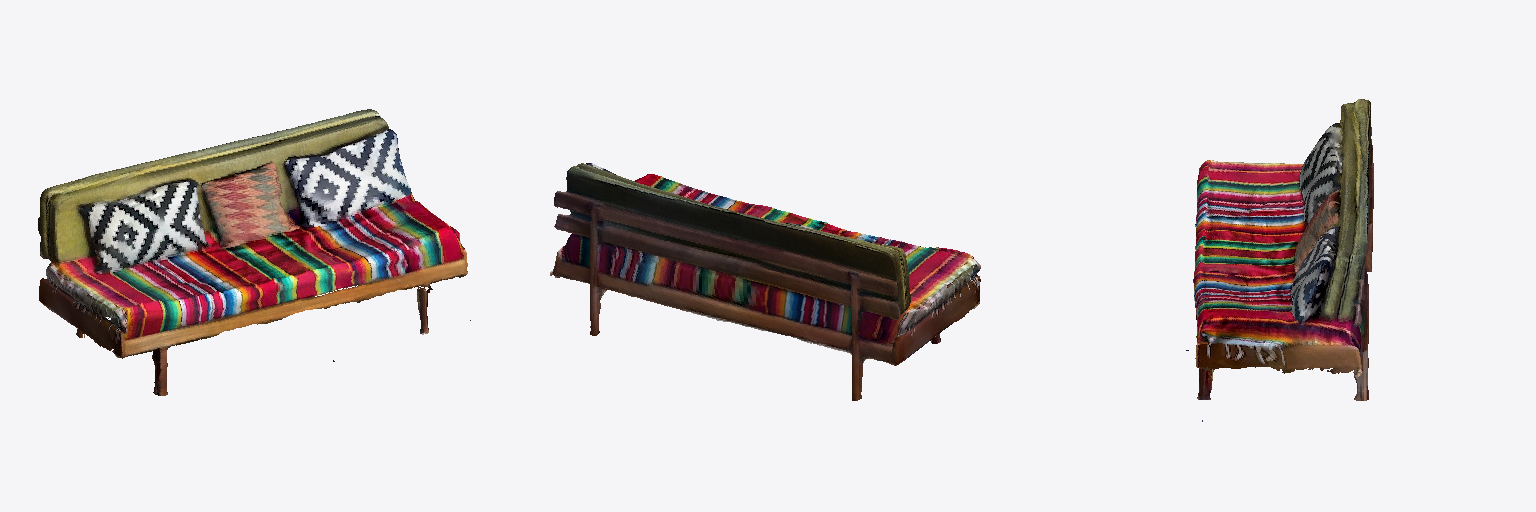
3 renders of one model, left to right at view 1: azimuth 30°, elevation 25°; view 2: azimuth 150°, elevation 25°; view 3: azimuth 270°, elevation 25°, orthographic.
Visible parts, largest first — view 1: mesh; view 2: mesh; view 3: mesh.
Boxes of the visible parts, <box> form: mesh: <box>38,109,470,395</box>; mesh: <box>550,163,980,400</box>; mesh: <box>1186,99,1373,421</box>.
Bounding box in the file's own units: 2.01 × 0.8567 × 0.9234.
Materials: 1 (1 with a texture image).